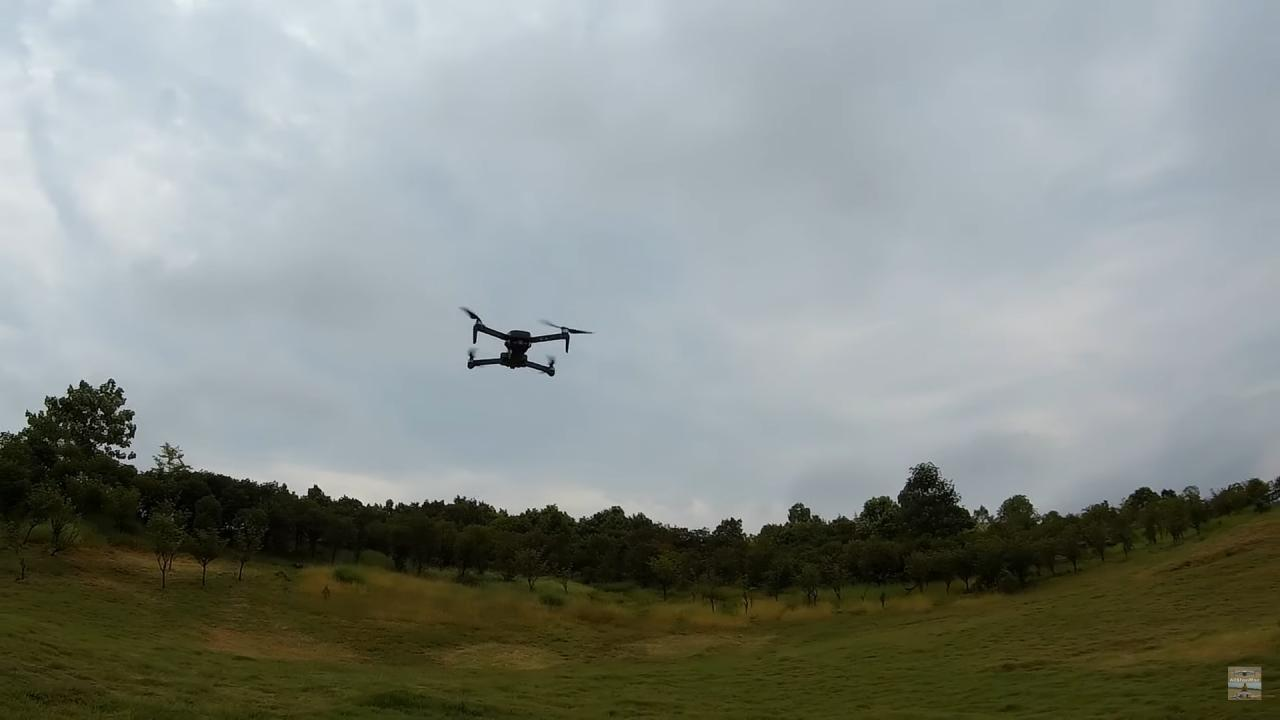Drone: (447, 294, 602, 388)
